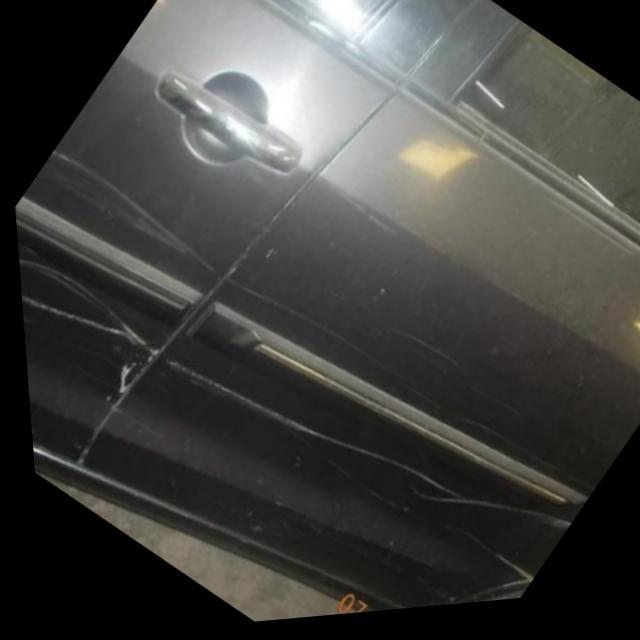scratch: (38, 150, 565, 487), (15, 255, 570, 544), (428, 530, 530, 598), (399, 602, 454, 615)
